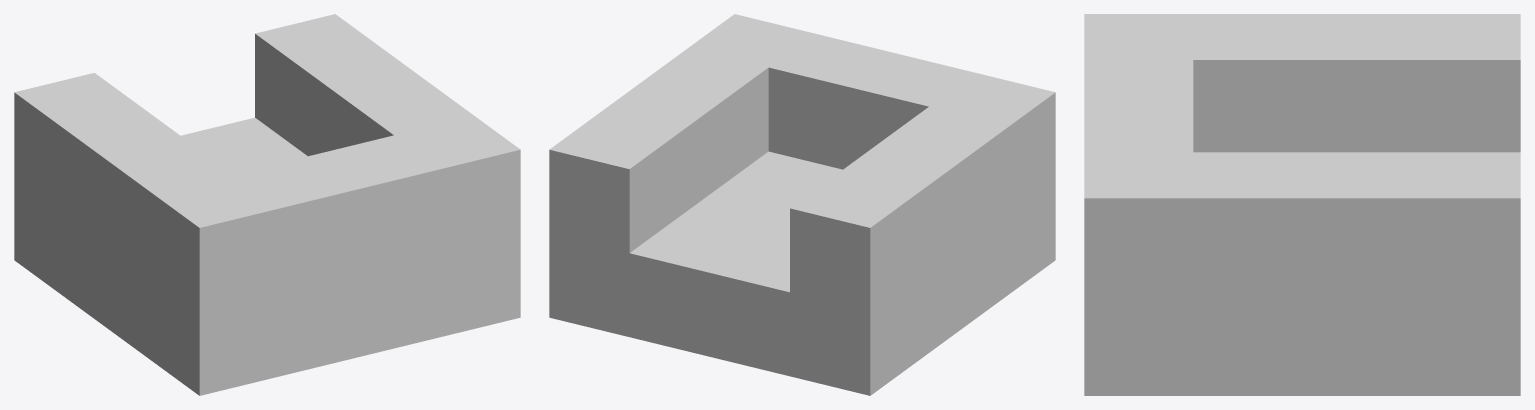
Rendered from Seat.fbx.
3 renders of one model, left to right at view 1: azimuth 30°, elevation 25°; view 2: azimuth 150°, elevation 25°; view 3: azimuth 270°, elevation 25°, orthographic. The views are drawn at different scales.
Visible parts, largest first — view 1: Cube.029; view 2: Cube.029; view 3: Cube.029.
Boxes of the visible parts, left/top/right/bottom form: Cube.029: left=14, top=14, right=520, bottom=395; Cube.029: left=549, top=14, right=1055, bottom=395; Cube.029: left=1084, top=14, right=1520, bottom=395.
Bounding box in the file's own units: 50 × 25 × 50.
